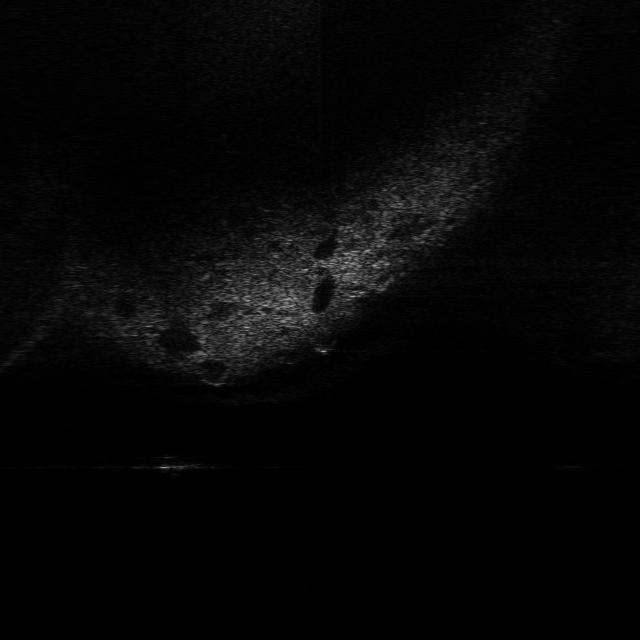ball: (307, 320, 343, 355)
cube: (146, 448, 207, 480)
